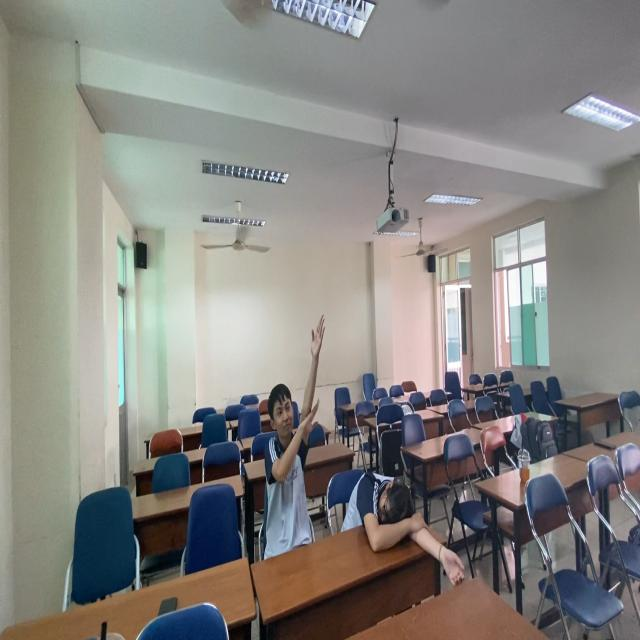raise_hand: (259, 314, 337, 572)
sleep: (343, 469, 449, 565)
